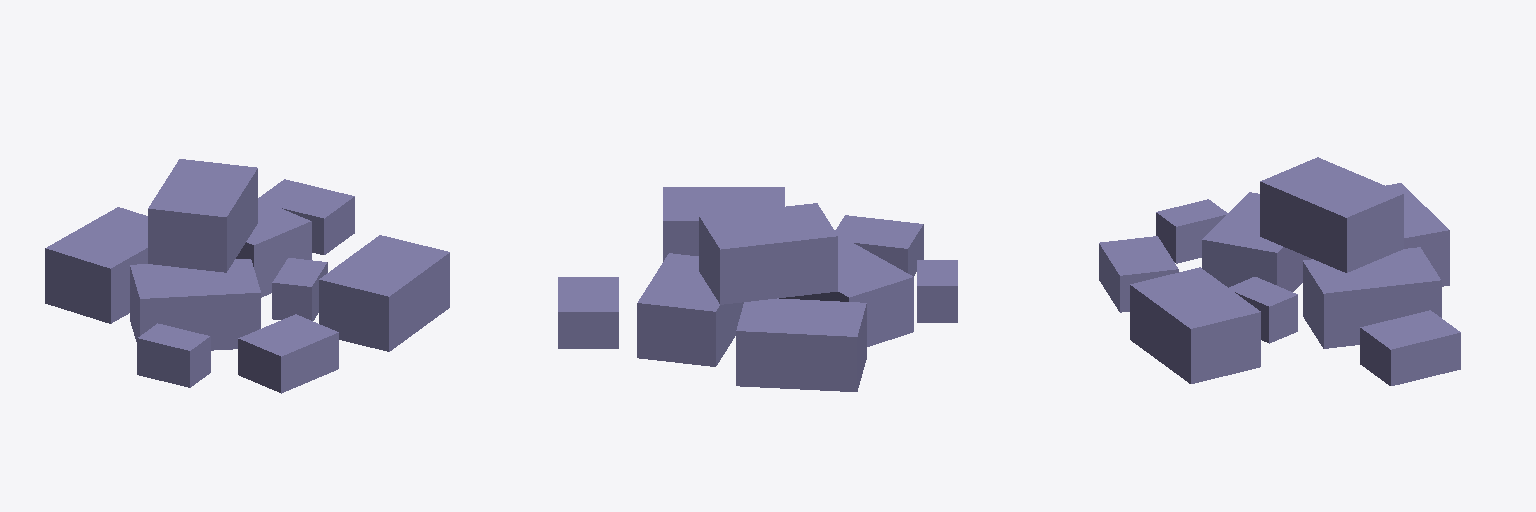
The picture shows the model from 3 angles: view 1: azimuth 30°, elevation 25°; view 2: azimuth 150°, elevation 25°; view 3: azimuth 270°, elevation 25°; orthographic projection.
Parts seen in each view (by area): view 1: mergedBlocks; view 2: mergedBlocks; view 3: mergedBlocks.
Part boxes in pixels (left/top/right/bottom): mergedBlocks: left=45, top=159, right=449, bottom=393; mergedBlocks: left=558, top=187, right=957, bottom=391; mergedBlocks: left=1099, top=157, right=1460, bottom=385.
Size of the model in its own units: 0.8755 by 0.3 by 0.8903.
Materials: 1 (1 with a texture image).